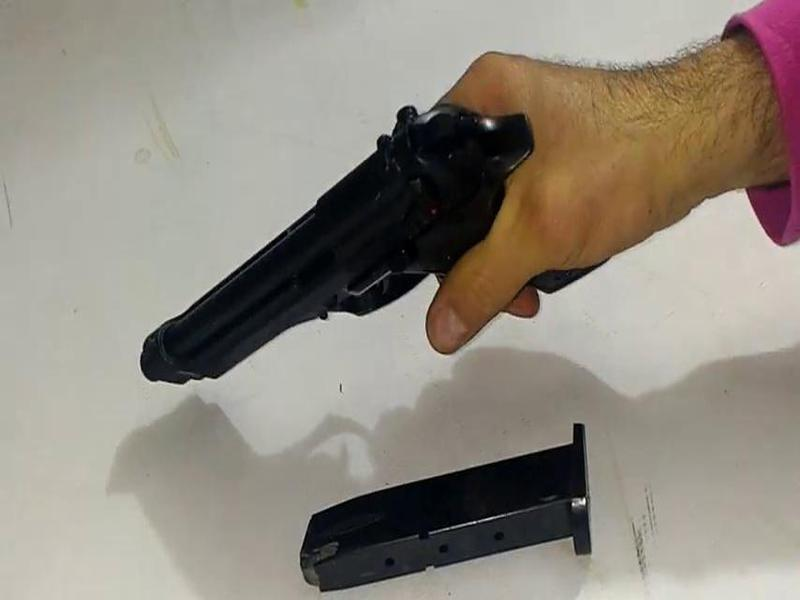Pistola: (91, 85, 647, 422)
